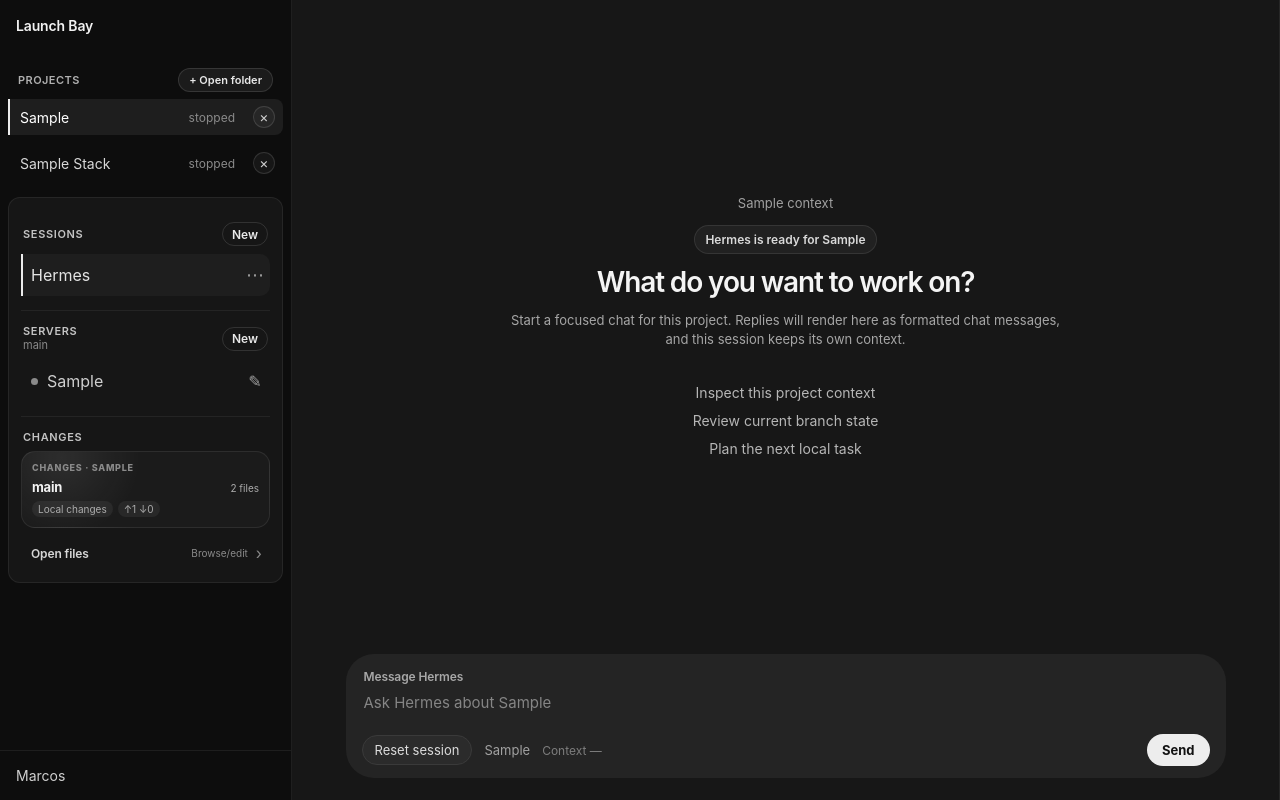
Launch Bay shell › keeps file clicks inline and opens the tabbed diff review from the summary action
Click the button with aria-label "Expand changes workbench": (146, 490) [21,451,270,528]
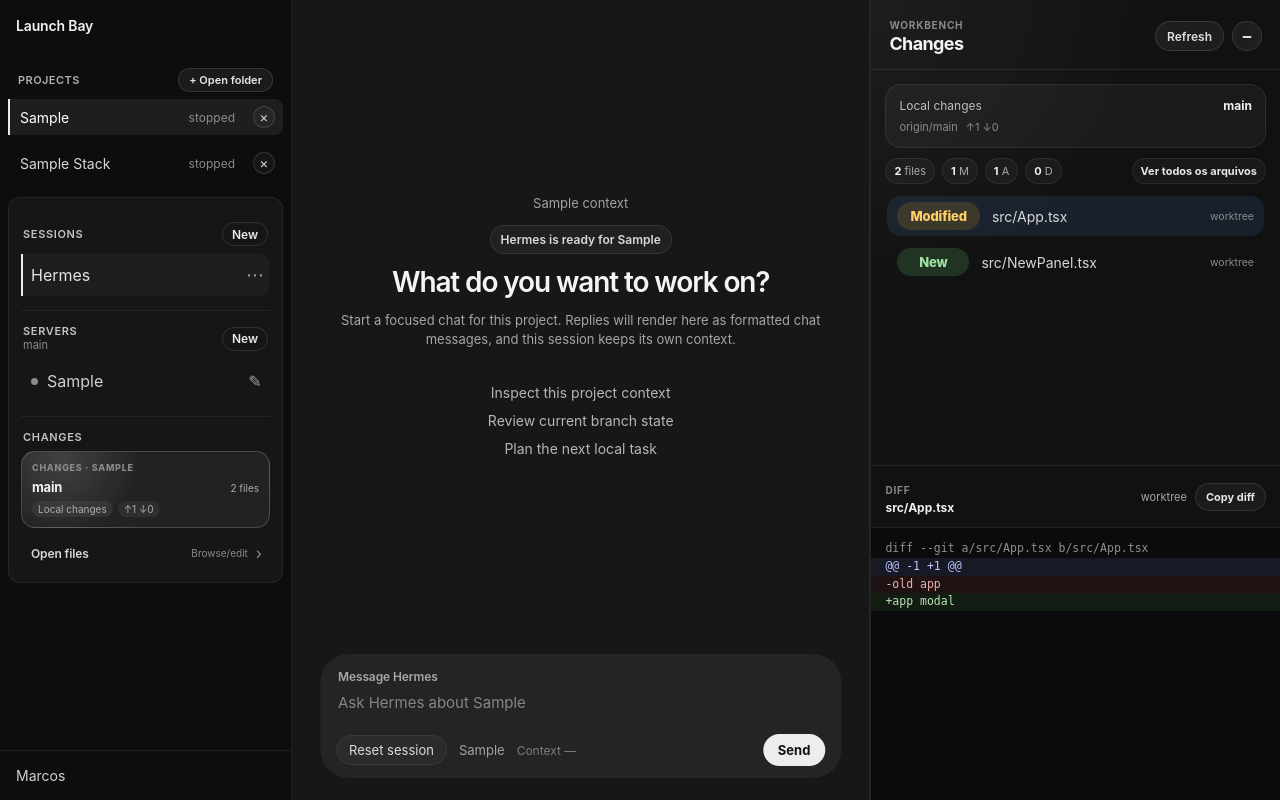
Result: the element named "Diff for src/App.tsx" shows "+app modal" at [885,594,955,608]
Click the button "New src/NewPanel.tsx worktree": (1076, 262) [887,242,1264,282]
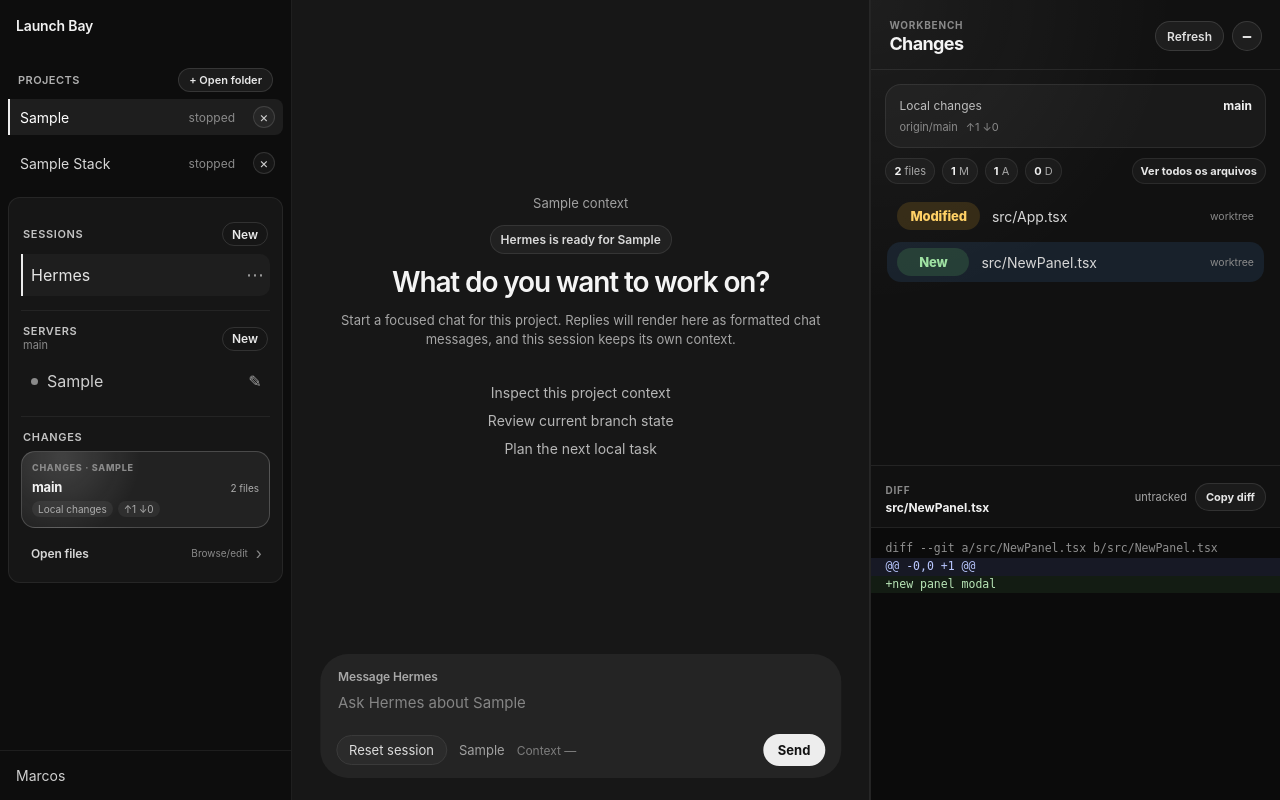
Expected: the dialog "Diff review" is not shown
Result: the element named "Diff for src/NewPanel.tsx" shows "+new panel modal" at [885,577,996,591]
Click the button "Ver todos os arquivos": (1199, 171) [1132,158,1266,184]
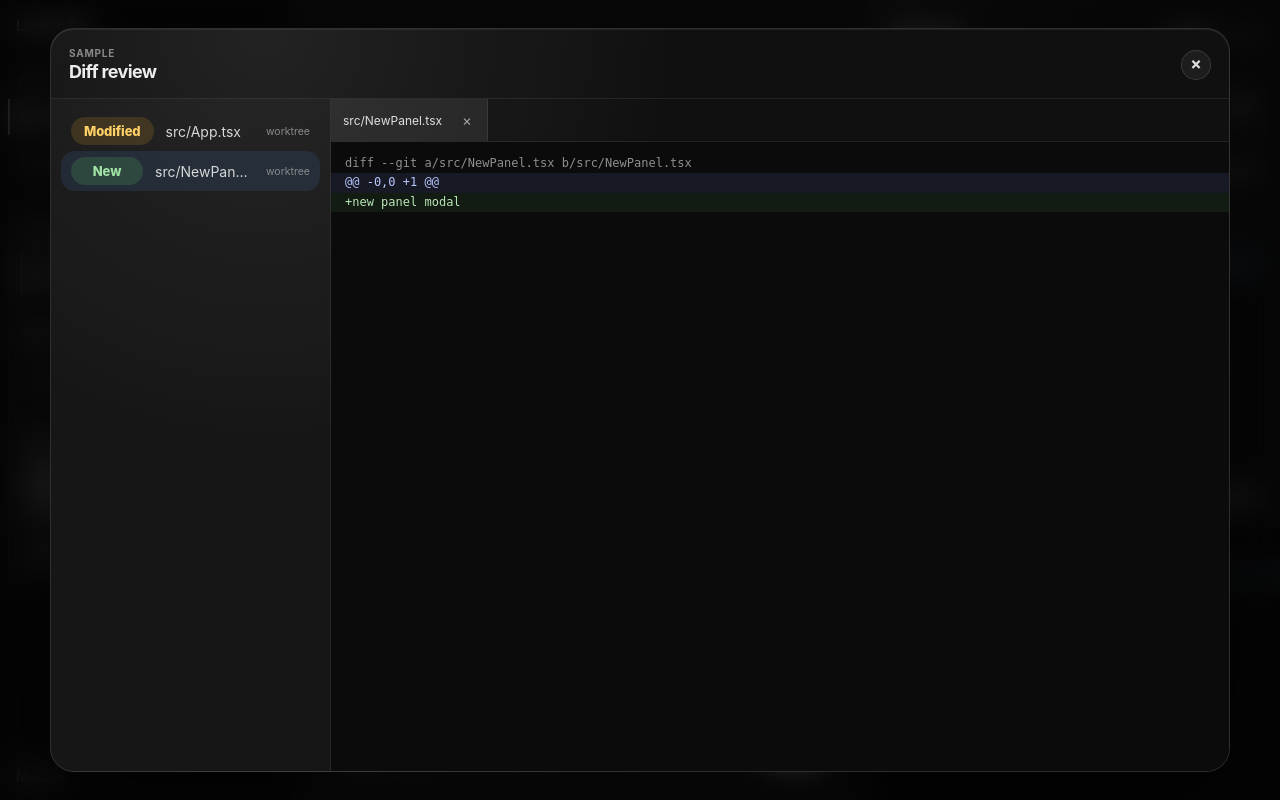
Result: the element named "Full diff for src/NewPanel.tsx" shows "+new panel modal" at [345,195,461,209]
Click the button "Modified src/App.tsx worktree": (190, 131) [61,111,320,151]
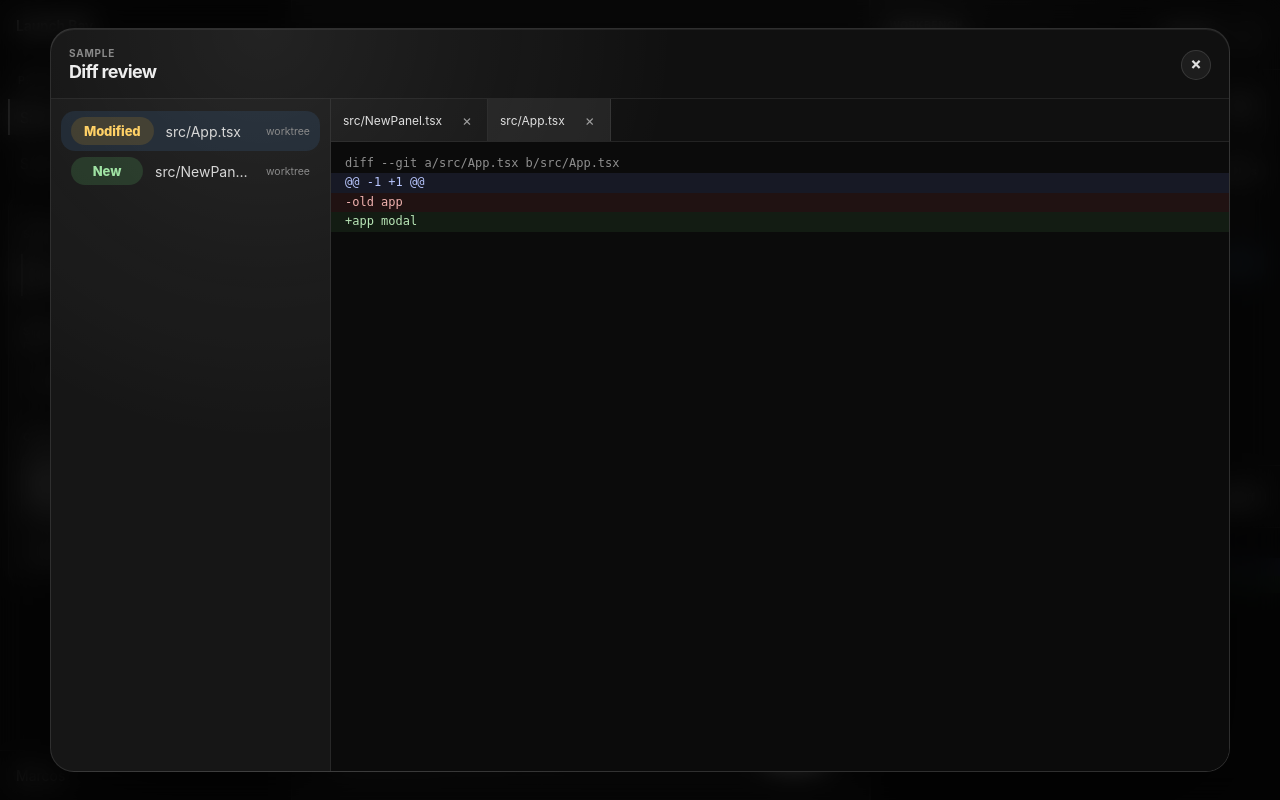
Result: the tab "src/NewPanel.tsx" is shown at [331,99,452,141]
Result: the element named "Full diff for src/App.tsx" shows "+app modal" at [345,214,417,228]
